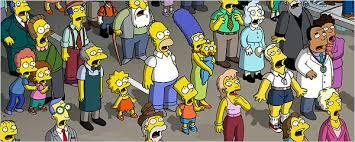Bart: (169, 75, 203, 128)
Homer: (139, 21, 181, 112)
Lisa: (101, 69, 139, 118)
Maggie: (198, 38, 222, 77)
Marge: (170, 6, 217, 110)
